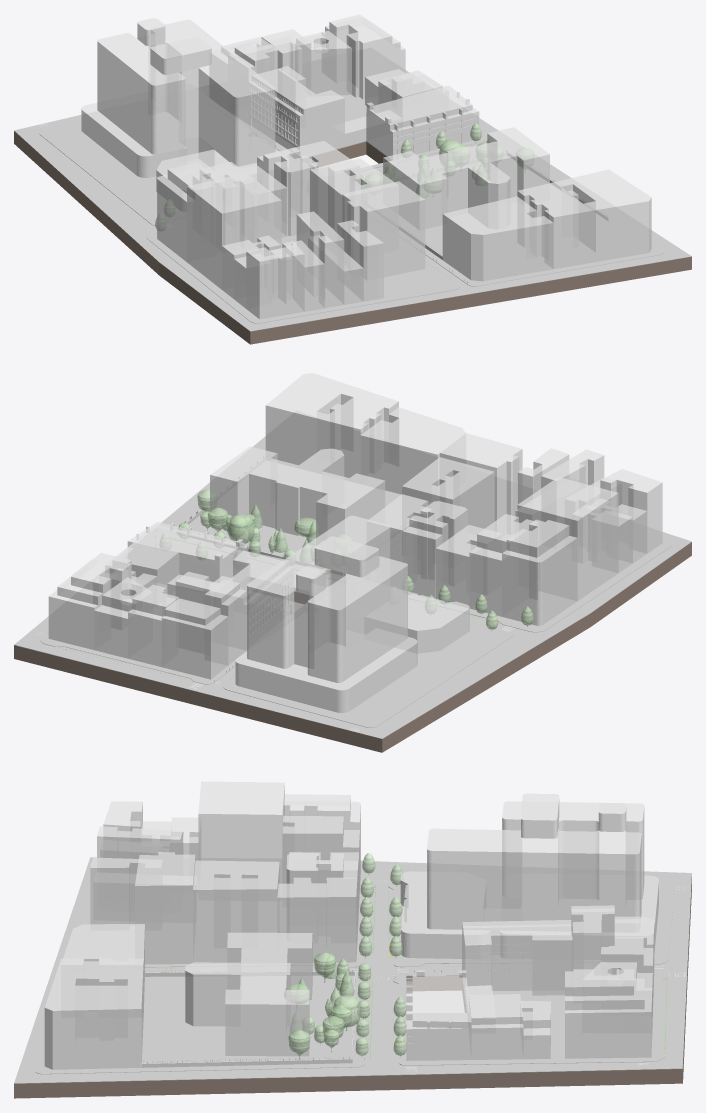
The model's file is ent.glb.
3 views of the same model, one above another, from view 1: azimuth 30°, elevation 25°; view 2: azimuth 150°, elevation 25°; view 3: azimuth 270°, elevation 25° (orthographic). The views are drawn at different scales.
Parts seen in each view (by area): view 1: FamilyInstance Generic Models Generic Models 3 <2605416 Gene, Floor Floors <1907585 ARQ_LosaHormig?n_30cm<; view 2: FamilyInstance Generic Models Generic Models 3 <2605416 Gene, Floor Floors <1907585 ARQ_LosaHormig?n_30cm<; view 3: FamilyInstance Generic Models Generic Models 3 <2605416 Gene, Floor Floors <1907585 ARQ_LosaHormig?n_30cm<.
Boxes of the visible parts, x1=… form: FamilyInstance Generic Models Generic Models 3 <2605416 Gene: x1=81, y1=14, x2=651, y2=319; Floor Floors <1907585 ARQ_LosaHormig?n_30cm<: x1=14, y1=47, x2=691, y2=344; FamilyInstance Generic Models Generic Models 3 <2605416 Gene: x1=48, y1=373, x2=662, y2=712; Floor Floors <1907585 ARQ_LosaHormig?n_30cm<: x1=14, y1=411, x2=691, y2=752; FamilyInstance Generic Models Generic Models 3 <2605416 Gene: x1=44, y1=781, x2=658, y2=1069; Floor Floors <1907585 ARQ_LosaHormig?n_30cm<: x1=14, y1=857, x2=691, y2=1098.
Bounding box in the file's own units: 198 × 55.68 × 250.
2 materials, 2 textured.
